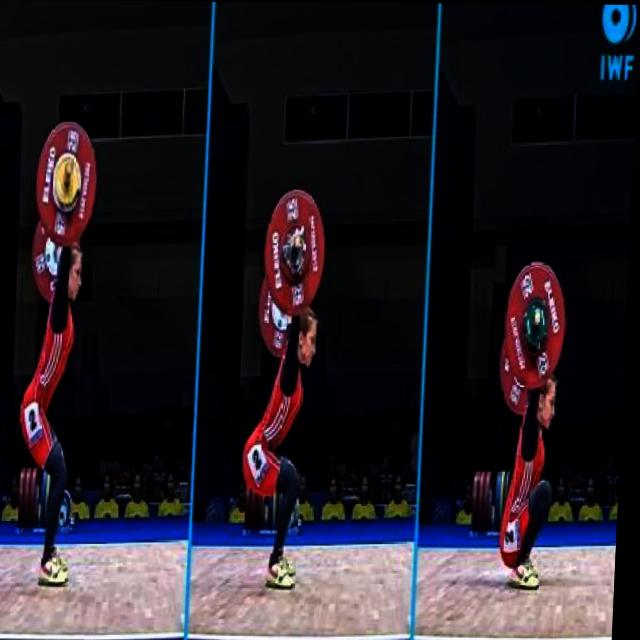barbell: (505, 257, 578, 391), (35, 116, 103, 249), (264, 185, 332, 317)
